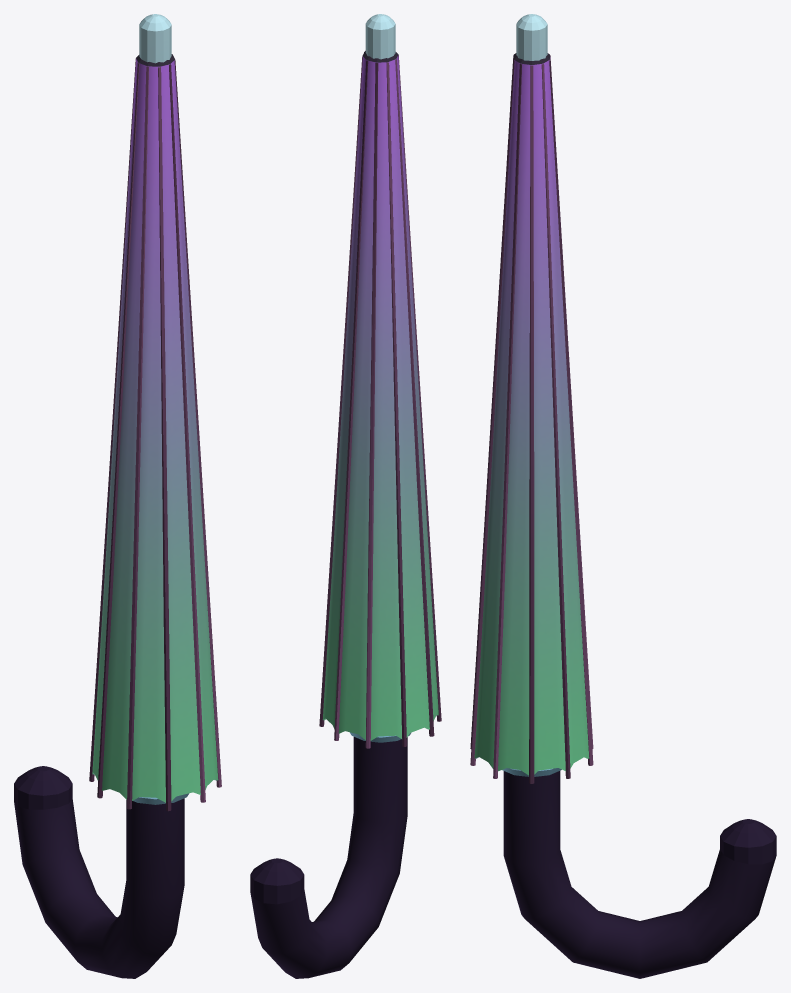
Rendered from Umbrella.FBX.
The picture shows the model from 3 angles, left to right: view 1: azimuth 30°, elevation 25°; view 2: azimuth 150°, elevation 25°; view 3: azimuth 270°, elevation 25°; orthographic projection. The views are drawn at different scales.
Visible parts, largest first — view 1: Umbrella; view 2: Umbrella; view 3: Umbrella.
Boxes of the visible parts, box(x1,y1,x2,y2) form: Umbrella: box(14, 14, 221, 978); Umbrella: box(250, 14, 441, 978); Umbrella: box(470, 14, 776, 978).
Bounding box in the file's own units: 8.34 × 68.84 × 19.87.
